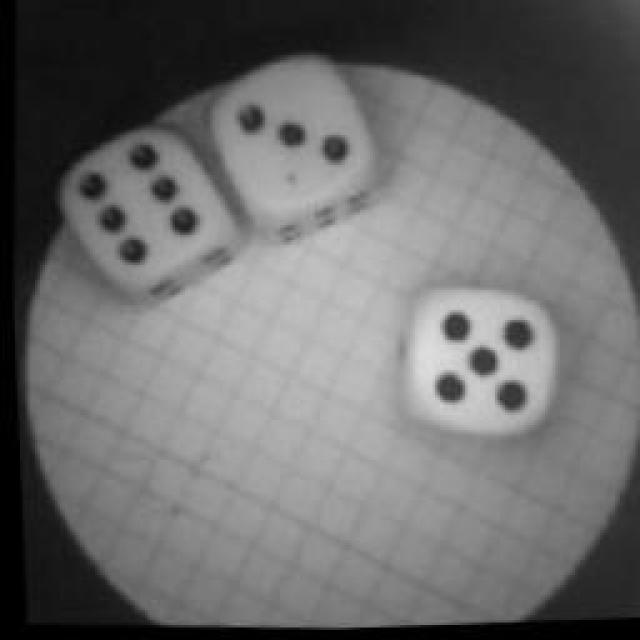dice_3: (201, 49, 381, 241)
dice_5: (386, 280, 574, 460)
dice_6: (49, 125, 236, 305)
